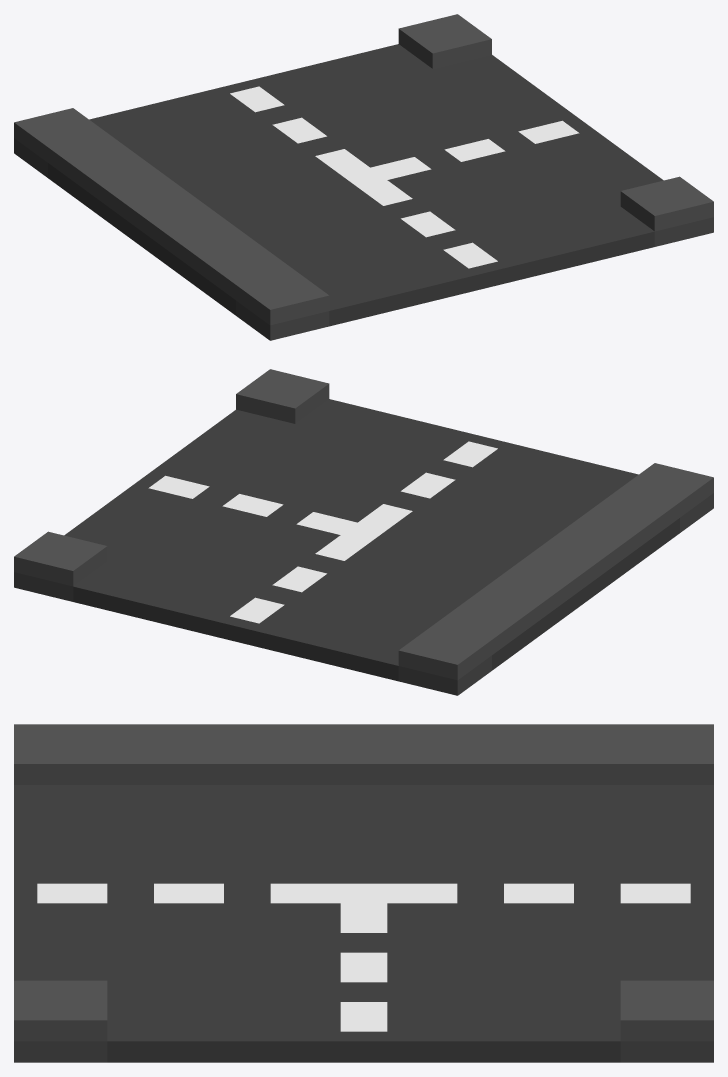
The model's file is tcrossroad.obj.
3 views of the same model, one above another, from view 1: azimuth 30°, elevation 25°; view 2: azimuth 150°, elevation 25°; view 3: azimuth 270°, elevation 25° (orthographic). The views are drawn at different scales.
Size of the model in its own units: 30 by 2 by 30.
Materials: 1 (1 with a texture image).
